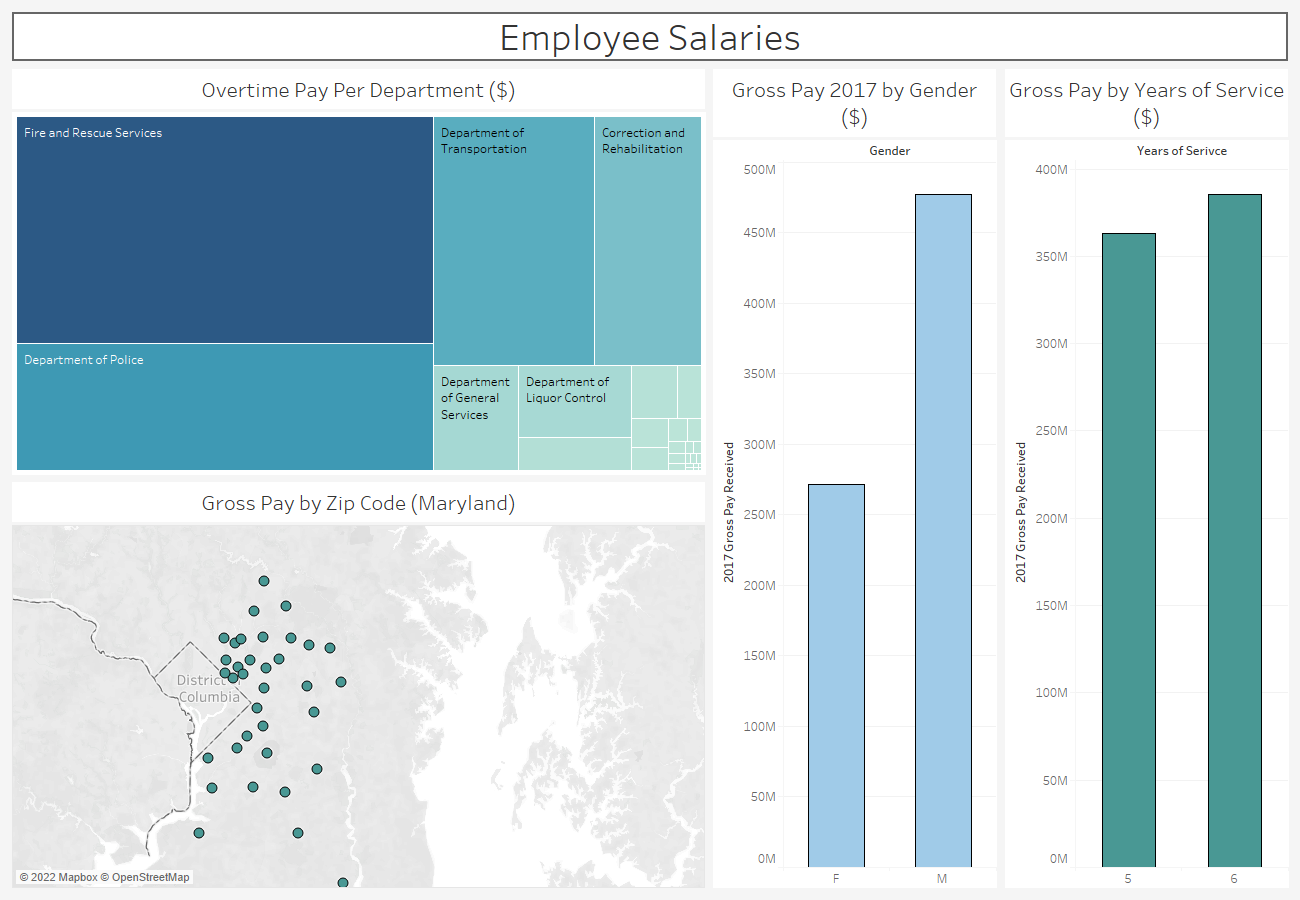

What the dashboard file says about the page in this screenshot:
{"tool":"tableau","page":{"name":"Dashboard 1","canvas":[1300,900],"ordinal":0},"visuals":[{"type":"title","box":[8,8,1284,57]},{"type":"worksheet","title":"TM OTPay\\Dep.","mark":"Automatic","box":[8,65,701.4,413.5]},{"type":"worksheet","title":"2017 Gross pay MvF","mark":"Automatic","rows":["2017 Gross Pay Received"],"cols":["Gender"],"box":[709.4,65,291.3,827]},{"type":"worksheet","title":"Gross\\YoS","mark":"Automatic","rows":["2017 Gross Pay Received"],"cols":["Calculation_1603000048589934596"],"box":[1000.7,65,291.3,827]},{"type":"worksheet","title":"ZIP-MAP","mark":"Automatic","box":[8,478.5,701.4,413.5]}]}

Visuals, with their boxes in screenshot pixels (x1, y1, x2, y2), scaled from the page's 1300x900 canvas onto the 1300x900 screenshot:
title: Rect(8, 8, 1292, 65)
"TM OTPay\Dep." worksheet: Rect(8, 65, 709, 478)
"2017 Gross pay MvF" worksheet: Rect(709, 65, 1001, 892)
"Gross\YoS" worksheet: Rect(1001, 65, 1292, 892)
"ZIP-MAP" worksheet: Rect(8, 478, 709, 892)
